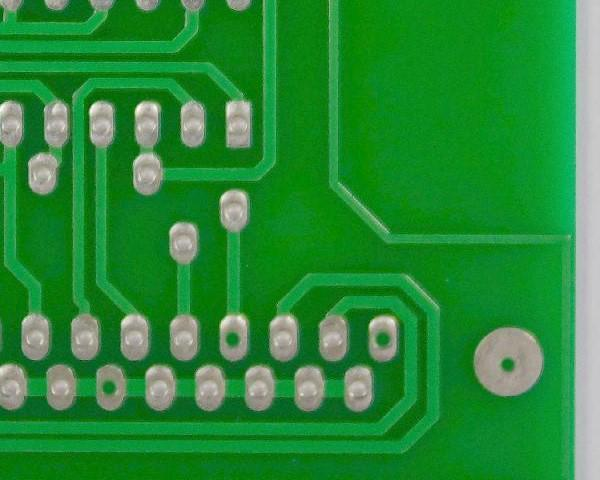missing hole: (463, 322, 548, 400), (363, 312, 406, 365), (215, 309, 254, 364), (92, 362, 130, 415)
